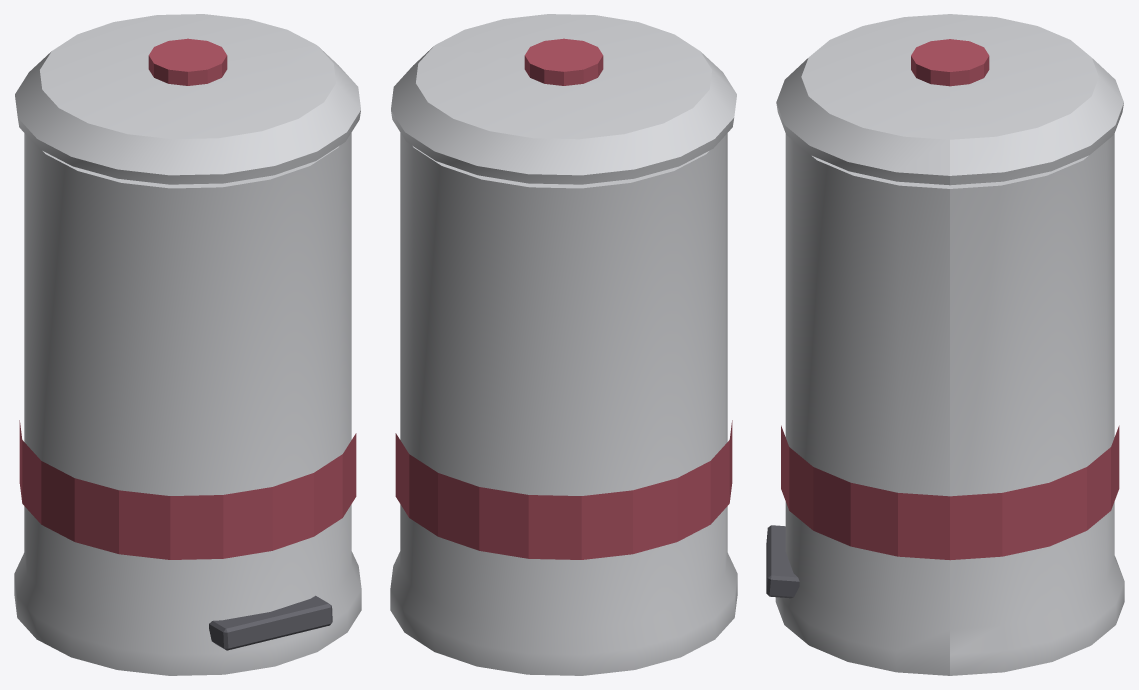
The model's file is butchers-shop-and-deli-counter-waste-bin-eaa569e3__34465.glb.
3 views of the same model, side by side, from view 1: azimuth 30°, elevation 25°; view 2: azimuth 150°, elevation 25°; view 3: azimuth 270°, elevation 25° (orthographic).
Parts seen in each view (by area): view 1: waste-bin, bin-lid/metal, bin-lid/accent; view 2: waste-bin, bin-lid/metal, bin-lid/accent; view 3: waste-bin, bin-lid/metal, bin-lid/accent.
Boxes of the visible parts, x1,y1,x2,y2 form: waste-bin: [14, 133, 361, 675]; bin-lid/metal: [15, 14, 360, 184]; bin-lid/accent: [148, 38, 227, 85]; waste-bin: [390, 133, 737, 675]; bin-lid/metal: [391, 14, 736, 184]; bin-lid/accent: [524, 38, 603, 85]; waste-bin: [766, 134, 1124, 675]; bin-lid/metal: [776, 14, 1123, 185]; bin-lid/accent: [911, 39, 989, 86].
Bounding box in the file's own units: 0.4452 × 0.77 × 0.4571.
